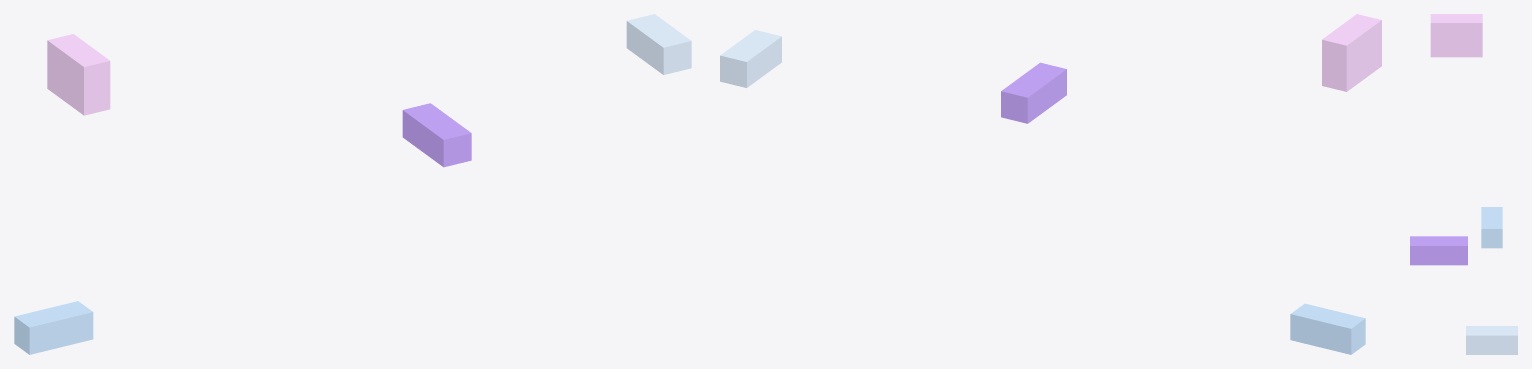
3 views of the same model, side by side, from view 1: azimuth 30°, elevation 25°; view 2: azimuth 150°, elevation 25°; view 3: azimuth 270°, elevation 25° (orthographic). The views are drawn at different scales.
Parts seen in each view (by area): view 1: Text encoder / attention, Image encoder / representation, Gated fusion, Output head; view 2: Text encoder / attention, Image encoder / representation, Gated fusion, Output head; view 3: Text encoder / attention, Gated fusion, Output head, Image encoder / representation.
Part boxes in pixels (x1,y1,x2,y2): Text encoder / attention: (47, 34, 110, 115); Image encoder / representation: (14, 301, 93, 354); Gated fusion: (402, 103, 471, 167); Output head: (626, 14, 691, 74); Text encoder / attention: (1322, 14, 1381, 91); Image encoder / representation: (1290, 303, 1365, 354); Gated fusion: (1001, 62, 1066, 123); Output head: (720, 30, 781, 87); Text encoder / attention: (1430, 14, 1482, 57); Gated fusion: (1410, 236, 1467, 265); Output head: (1466, 326, 1517, 354); Image encoder / representation: (1481, 207, 1502, 248).
Size of the model in its own units: 27.86 by 12.65 by 5.66.
